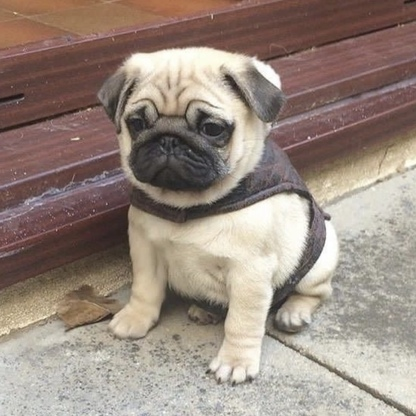Pug: (92, 42, 344, 388)
